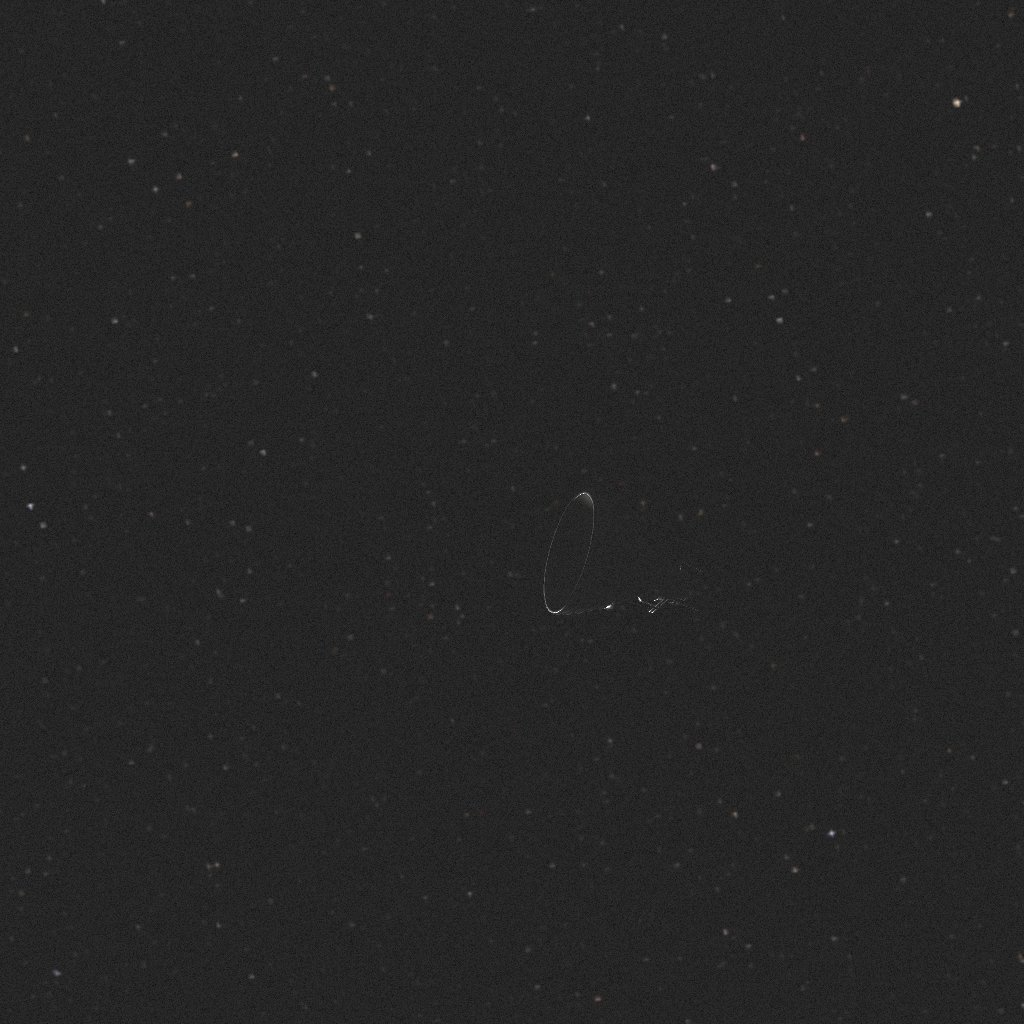debris: (544, 488, 702, 615)
